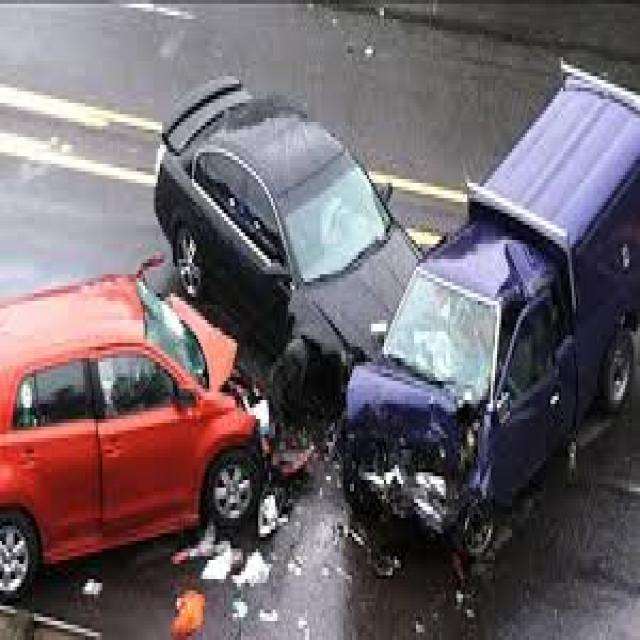accident: (7, 71, 616, 601)
